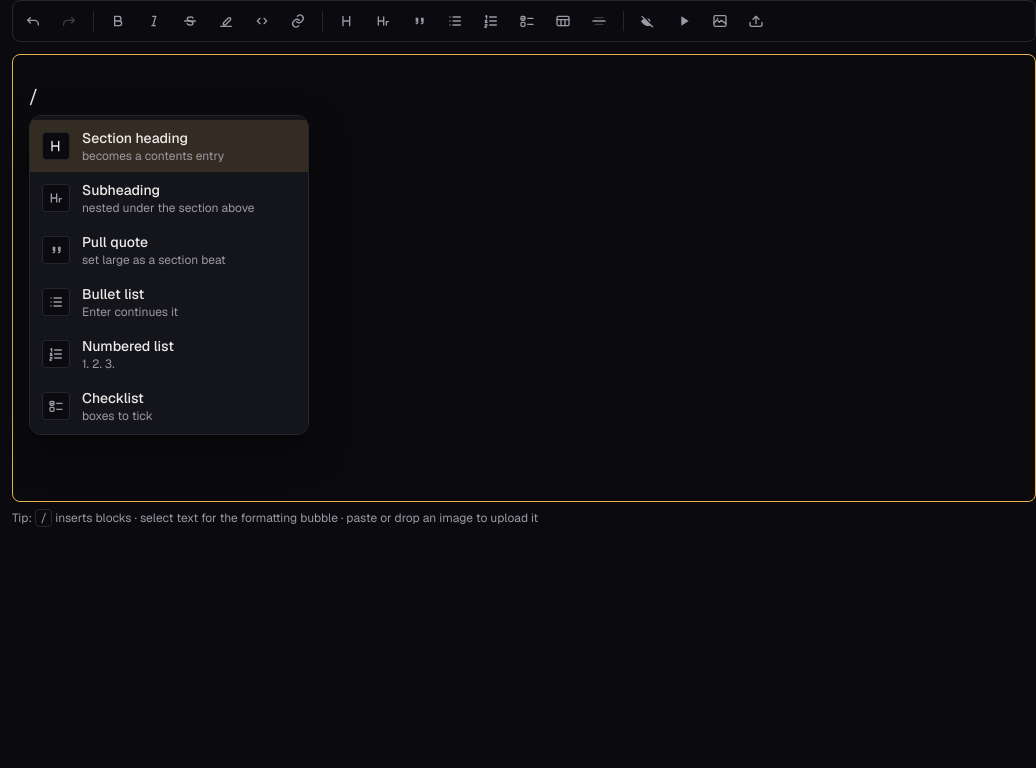
it: RichEditor mounts › opens the slash menu on / and inserts the chosen block
Expected: the list with class "cx-slash-menu" is shown, [29,115,309,435]
Expected: the list with class "cx-slash-menu" shows "Section heading", [30,120,308,172]
Click the option "Pull quote set large as a section beat" at (169, 250), box [30,224,308,276]
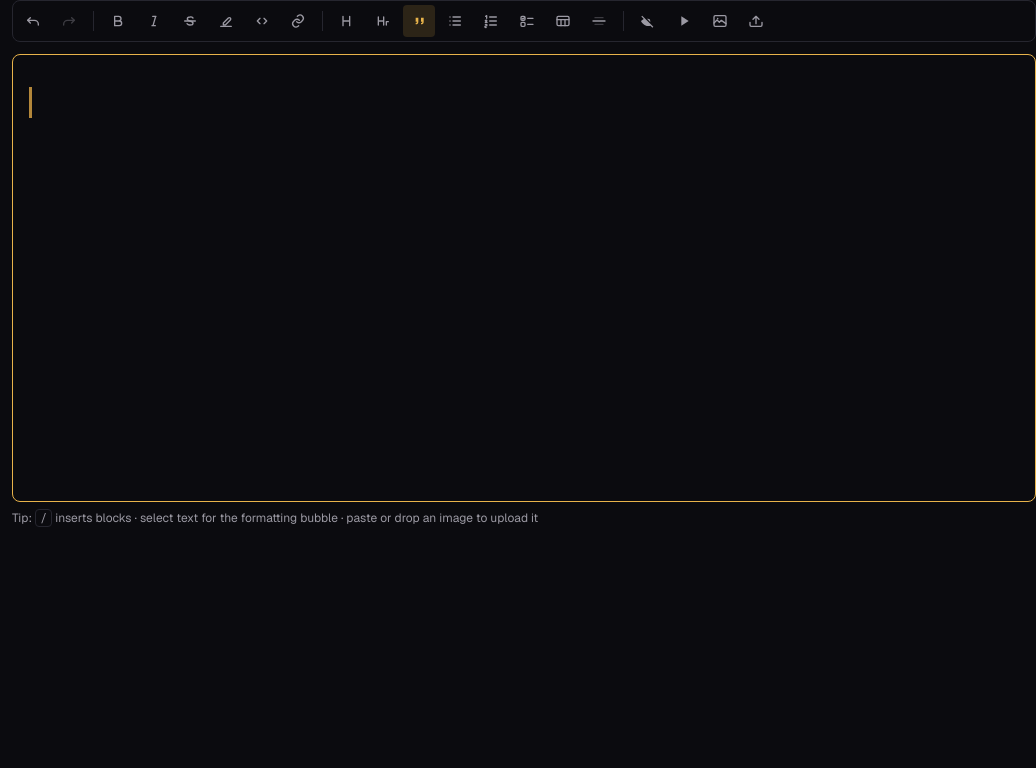
Expected: the 1st text box is shown, [29,87,1019,118]
Expected: the element with class "cx-richtext" no longer shows "/"
